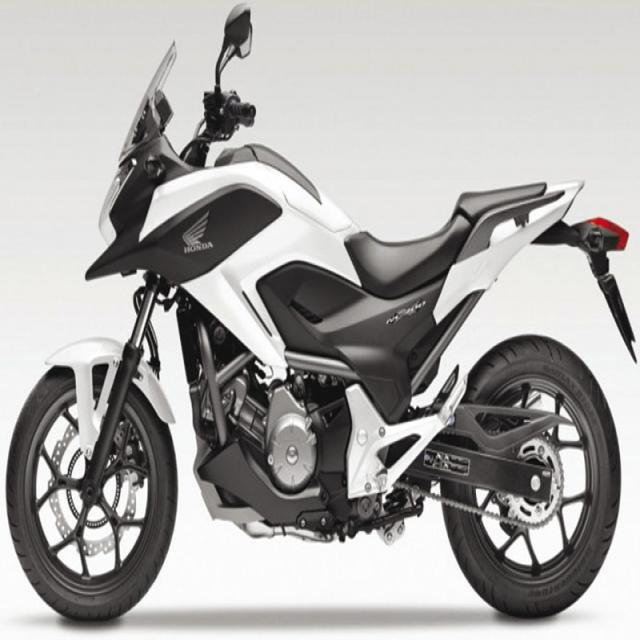Bus: (6, 8, 636, 619)
